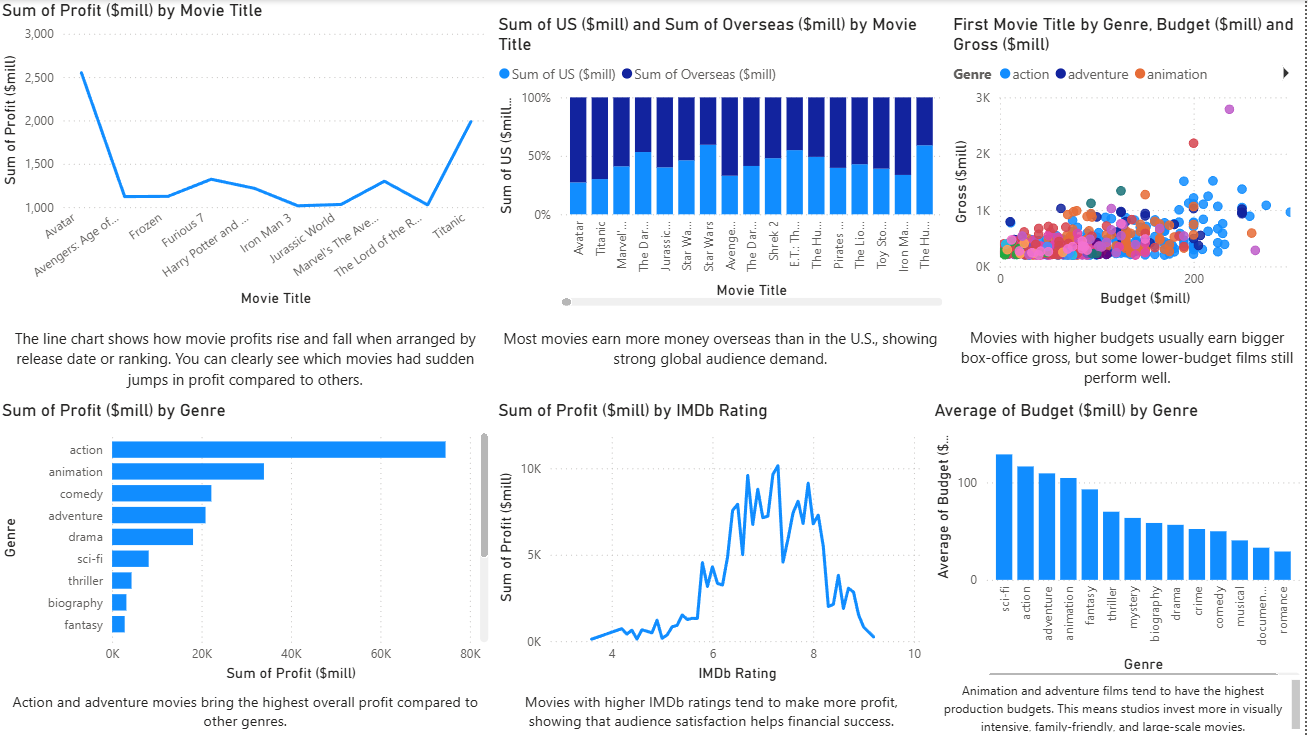

What the dashboard file says about the page in this screenshot:
{"tool":"powerbi","page":{"name":"Page 2","canvas":[1280,720],"ordinal":1},"visuals":[{"type":"lineChart","fields":{"Category":["Movie-Gross-Ratings_v3.Movie Title"],"Y":["Sum(Movie-Gross-Ratings_v3.Profit ($mill))"]},"box":[0,0,485.8,304.6],"z":0},{"type":"textbox","box":[0,315.6,485.8,75.5],"z":1},{"type":"hundredPercentStackedColumnChart","fields":{"Category":["Movie-Gross-Ratings_v3.Movie Title"],"Y":["Sum(Movie-Gross-Ratings_v3.US ($mill))","Sum(Movie-Gross-Ratings_v3.Overseas ($mill))"]},"box":[485.8,13.7,444.6,290.9],"z":2},{"type":"textbox","box":[485.8,315.6,444.6,59],"z":3},{"type":"scatterChart","fields":{"X":["Movie-Gross-Ratings_v3.Budget ($mill)"],"Y":["Movie-Gross-Ratings_v3.Gross ($mill)"],"Series":["Movie-Gross-Ratings_v3.Genre"]},"box":[930.4,13.7,349.9,290.9],"z":4},{"type":"textbox","box":[930.4,314.2,349.9,76.8],"z":6},{"type":"clusteredBarChart","fields":{"Category":["Movie-Gross-Ratings_v3.Genre"],"Y":["Sum(Movie-Gross-Ratings_v3.Profit ($mill))"]},"box":[0,391.1,485.8,279.9],"z":7},{"type":"textbox","box":[0,671,485.8,49.4],"z":8},{"type":"lineChart","fields":{"Category":["Movie-Gross-Ratings_v3.IMDb Rating"],"Y":["Sum(Movie-Gross-Ratings_v3.Profit ($mill))"]},"box":[485.8,391.1,426.8,279.9],"z":9},{"type":"textbox","box":[485.8,671,426.8,49.4],"z":10},{"type":"columnChart","fields":{"Category":["Movie-Gross-Ratings_v3.Genre"],"Y":["Avg(Movie-Gross-Ratings_v3.Budget ($mill))"]},"box":[912.5,391.1,367.8,279.9],"z":11},{"type":"textbox","box":[912.5,660,367.8,60.4],"z":12}]}

Visuals, with their boxes in screenshot pixels (x1, y1, x2, y2), scaled from the page's 1280x720 canvas onto the 1308x736 screenshot:
lineChart - Movie-Gross-Ratings_v3.Movie Title x Sum(Movie-Gross-Ratings_v3.Profit ($mill)): 0 0 496 311
textbox: 0 323 496 400
hundredPercentStackedColumnChart - Movie-Gross-Ratings_v3.Movie Title x Sum(Movie-Gross-Ratings_v3.US ($mill)): 496 14 951 311
textbox: 496 323 951 383
scatterChart - Movie-Gross-Ratings_v3.Budget ($mill) x Movie-Gross-Ratings_v3.Gross ($mill): 951 14 1307 311
textbox: 951 321 1307 400
clusteredBarChart - Movie-Gross-Ratings_v3.Genre x Sum(Movie-Gross-Ratings_v3.Profit ($mill)): 0 400 496 686
textbox: 0 686 496 735
lineChart - Movie-Gross-Ratings_v3.IMDb Rating x Sum(Movie-Gross-Ratings_v3.Profit ($mill)): 496 400 933 686
textbox: 496 686 933 735
columnChart - Movie-Gross-Ratings_v3.Genre x Avg(Movie-Gross-Ratings_v3.Budget ($mill)): 932 400 1307 686
textbox: 932 675 1307 735
